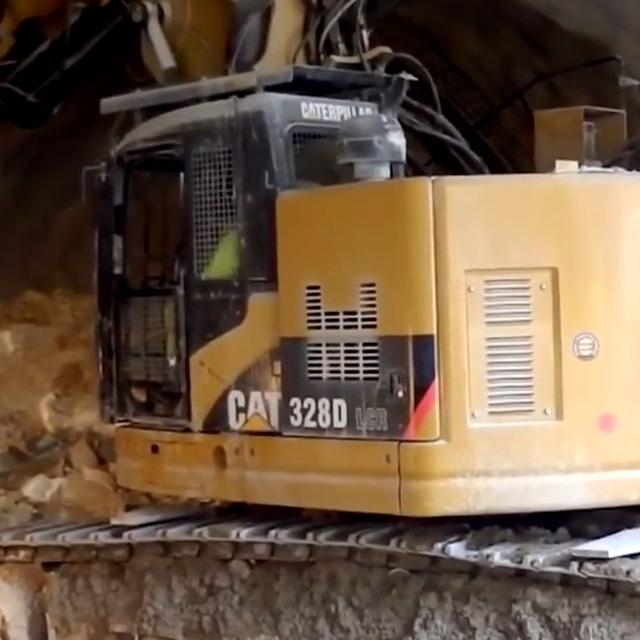Excavator: (0, 0, 640, 640)
Person: (161, 198, 249, 394)
Safety Vest: (207, 232, 241, 276)
